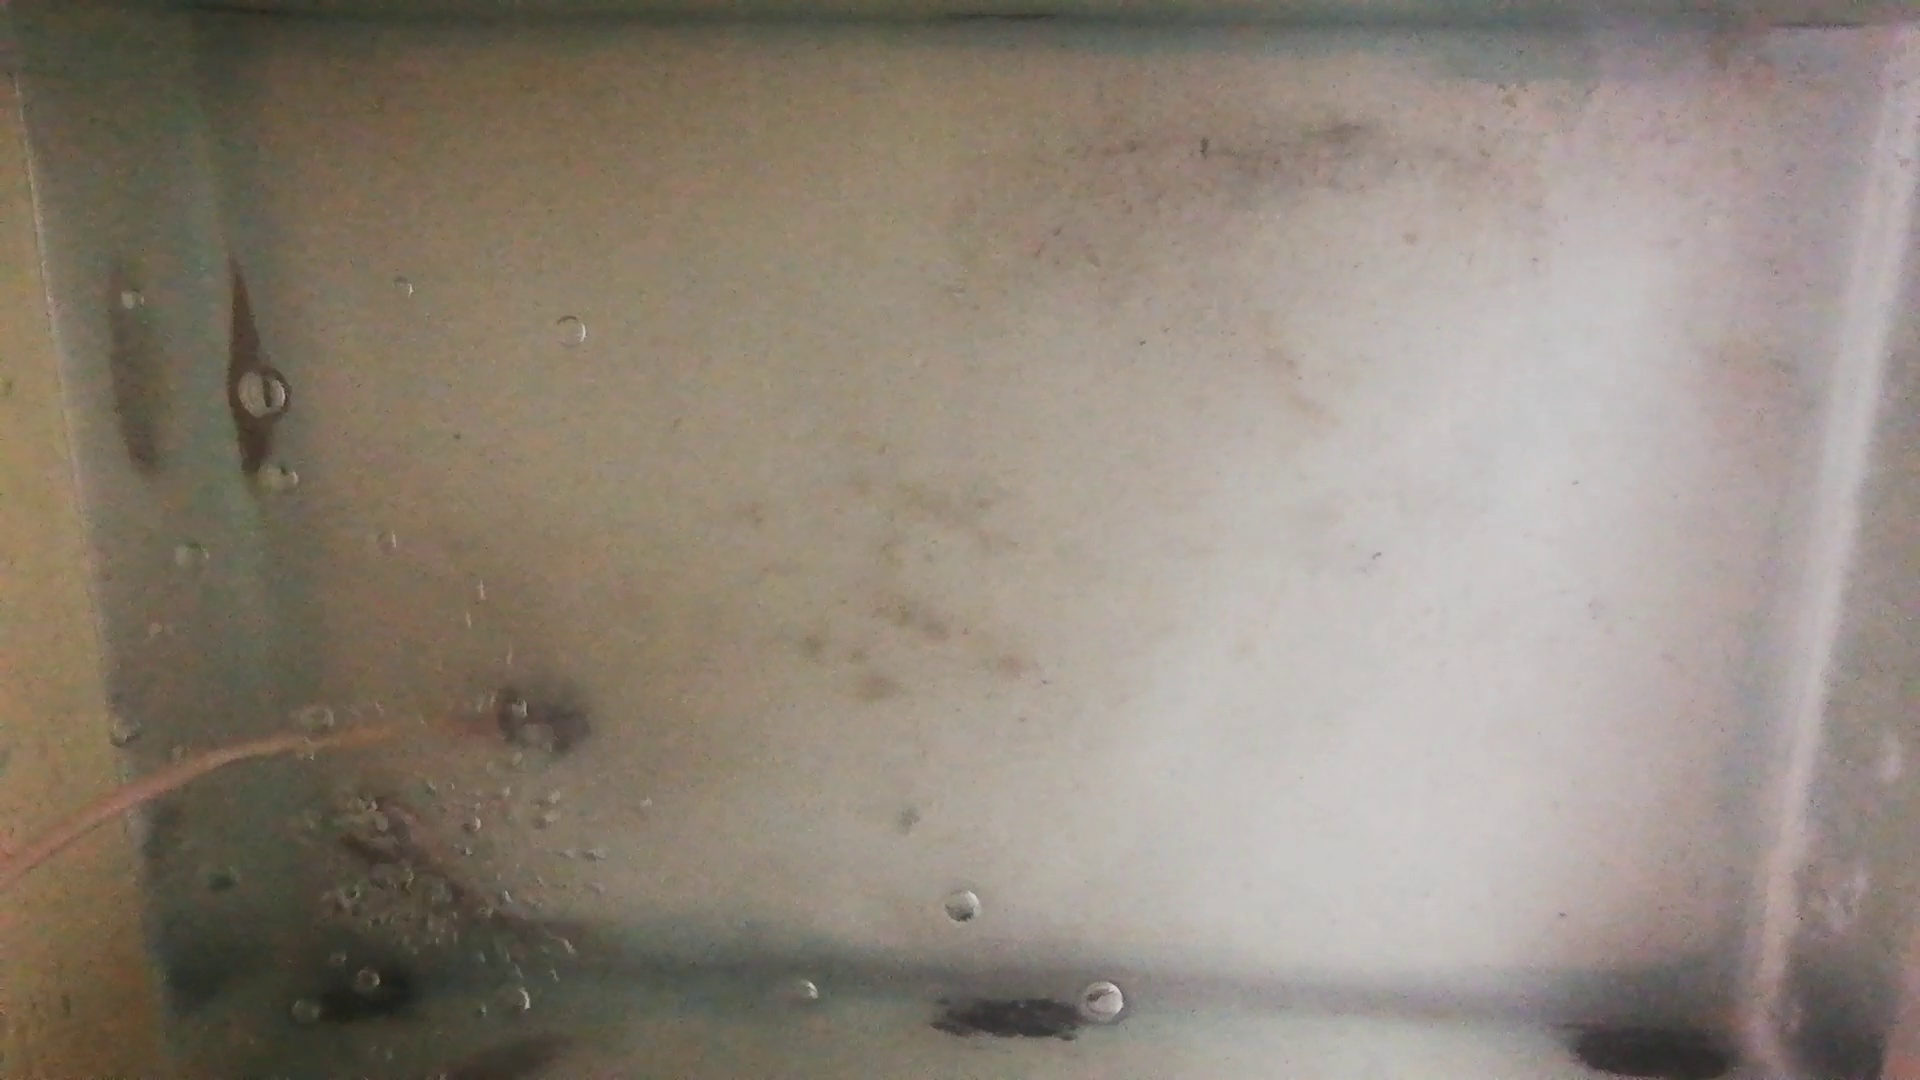fish: (326, 798, 512, 935), (216, 257, 289, 495)
